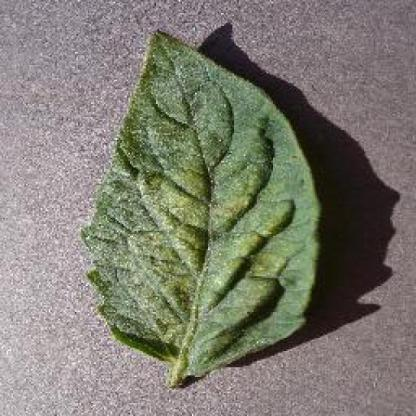Tomato_Spider_Mites: (88, 31, 318, 368)
